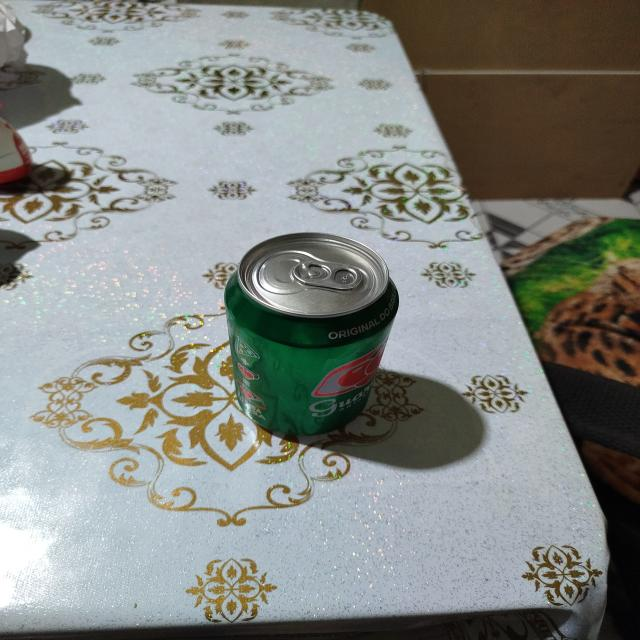Guarana: (222, 233, 402, 436)
